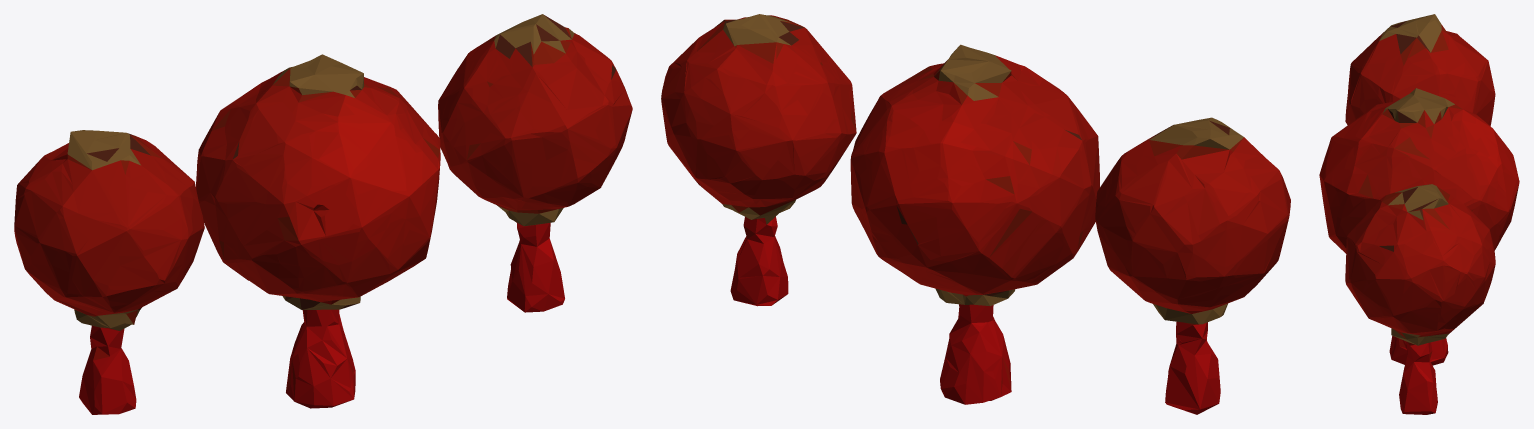
The model's file is lanterns.glb.
3 views of the same model, side by side, from view 1: azimuth 30°, elevation 25°; view 2: azimuth 150°, elevation 25°; view 3: azimuth 270°, elevation 25° (orthographic). The views are drawn at different scales.
Parts seen in each view (by area): view 1: lanterns; view 2: lanterns; view 3: lanterns.
Boxes of the visible parts, left/top/right/bottom form: lanterns: left=14, top=14, right=632, bottom=414; lanterns: left=661, top=14, right=1290, bottom=414; lanterns: left=1319, top=14, right=1519, bottom=414.
Bounding box in the file's own units: 1.2 × 0.6312 × 0.4404.
